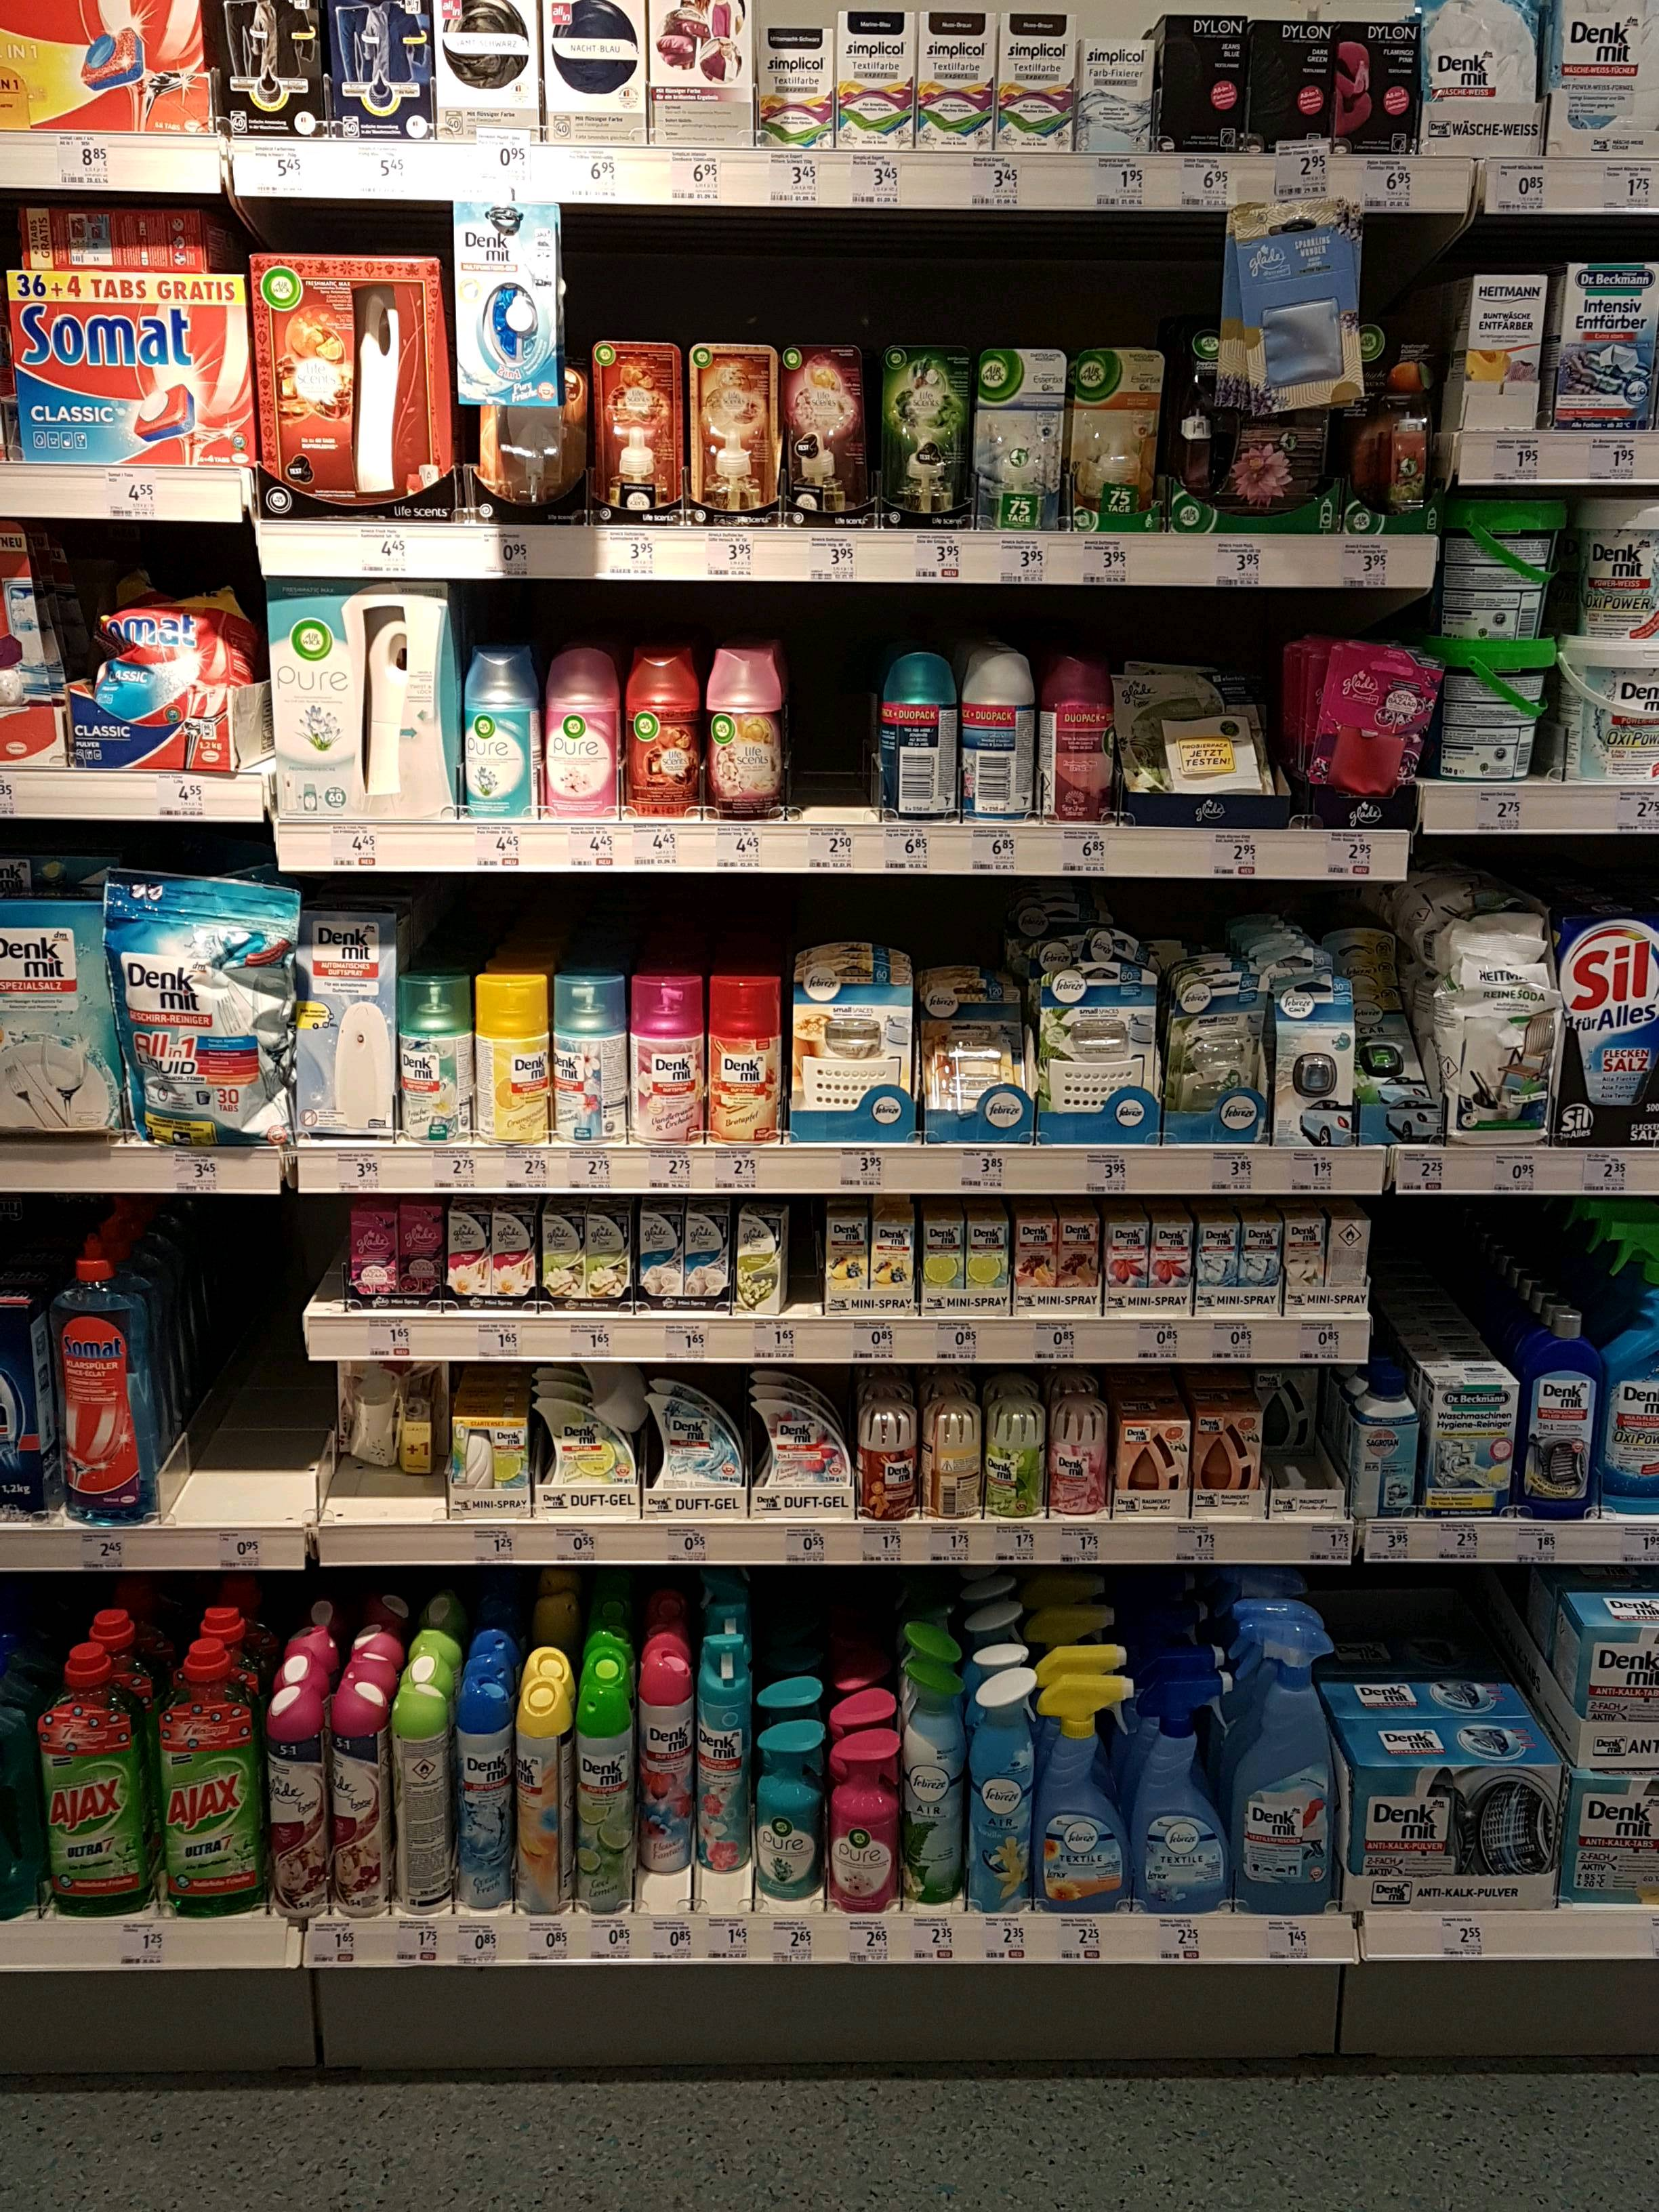Out-of-stock: (169, 1233, 321, 1522)
